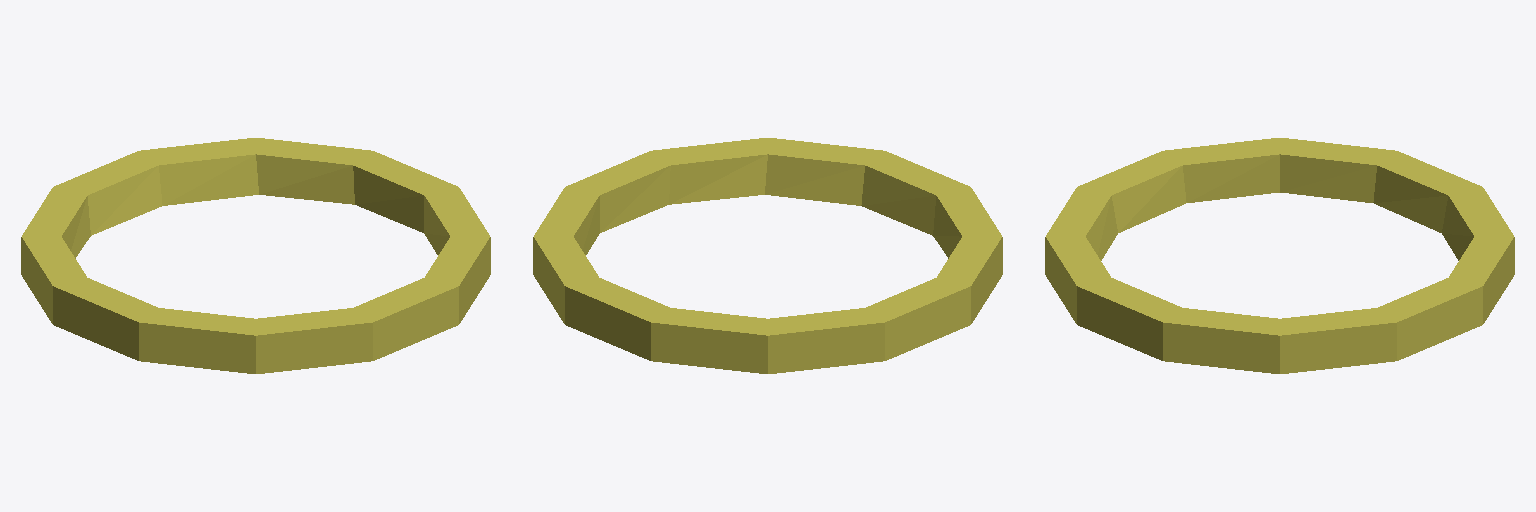
Rendered from circle_selection.obj.
3 views of the same model, side by side, from view 1: azimuth 30°, elevation 25°; view 2: azimuth 150°, elevation 25°; view 3: azimuth 270°, elevation 25° (orthographic).
Visible parts, largest first — view 1: Cylinder.001; view 2: Cylinder.001; view 3: Cylinder.001.
Boxes of the visible parts, <box> form: Cylinder.001: <box>21,138,490,373</box>; Cylinder.001: <box>533,138,1002,373</box>; Cylinder.001: <box>1045,138,1514,373</box>.
Bounding box in the file's own units: 1 × 0.0914 × 1.